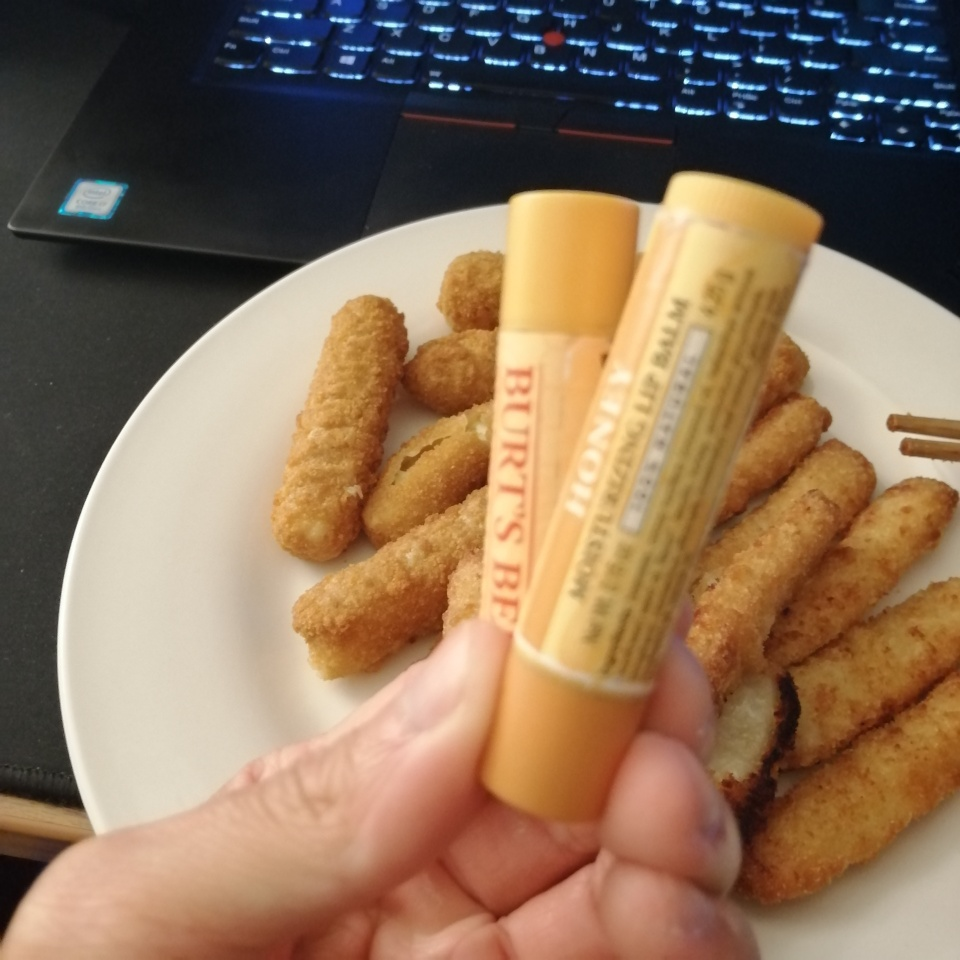chapstick: (481, 171, 825, 822), (479, 189, 640, 628)
